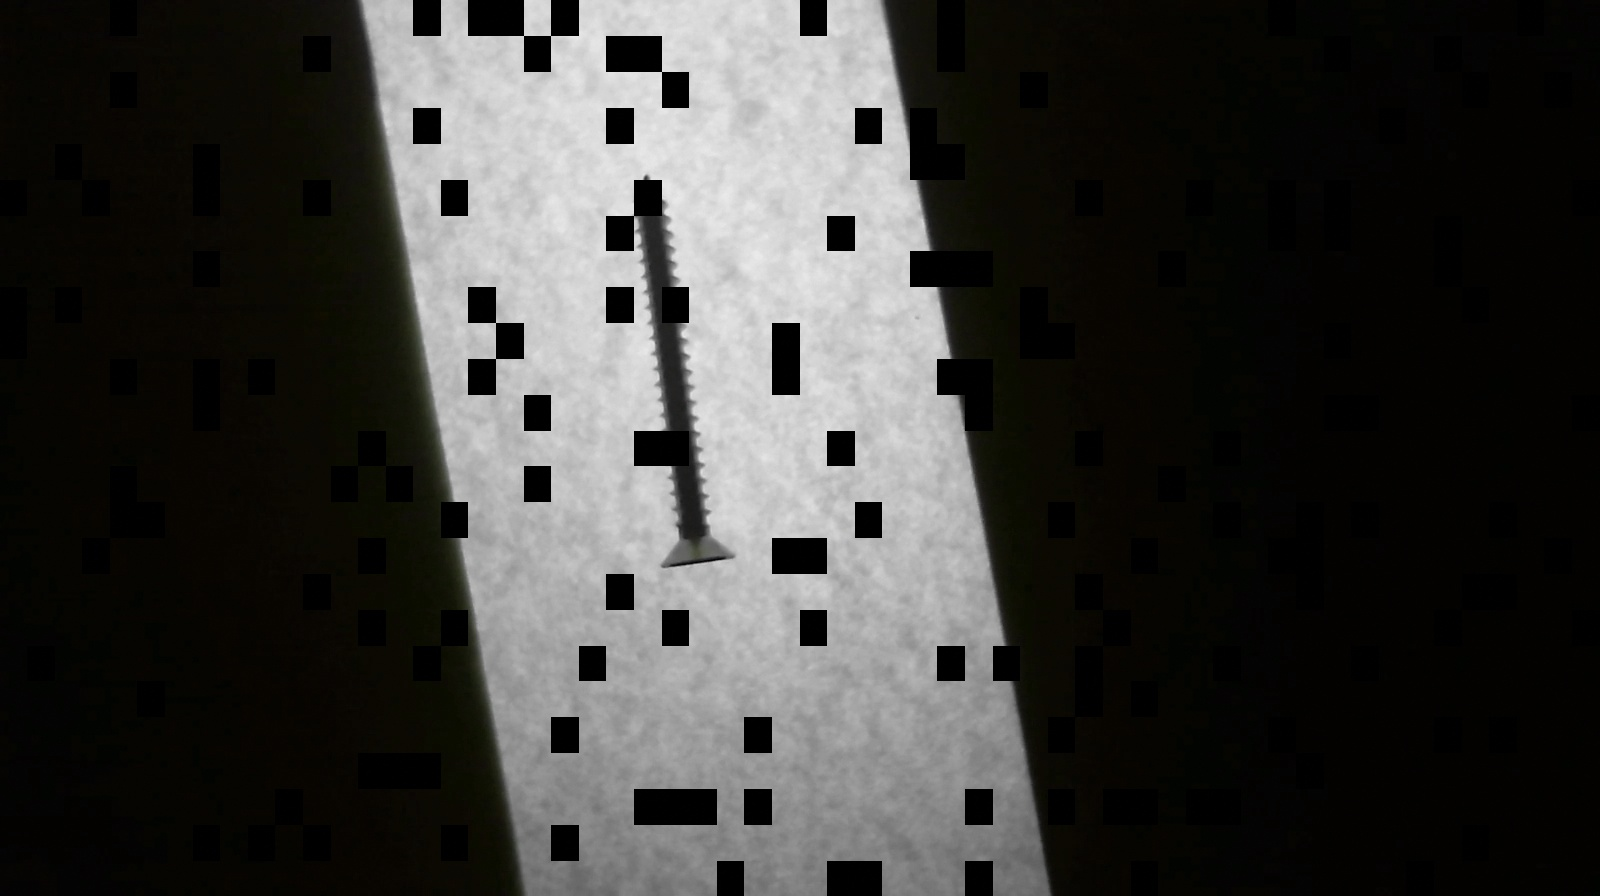S002: (610, 167, 744, 578)
